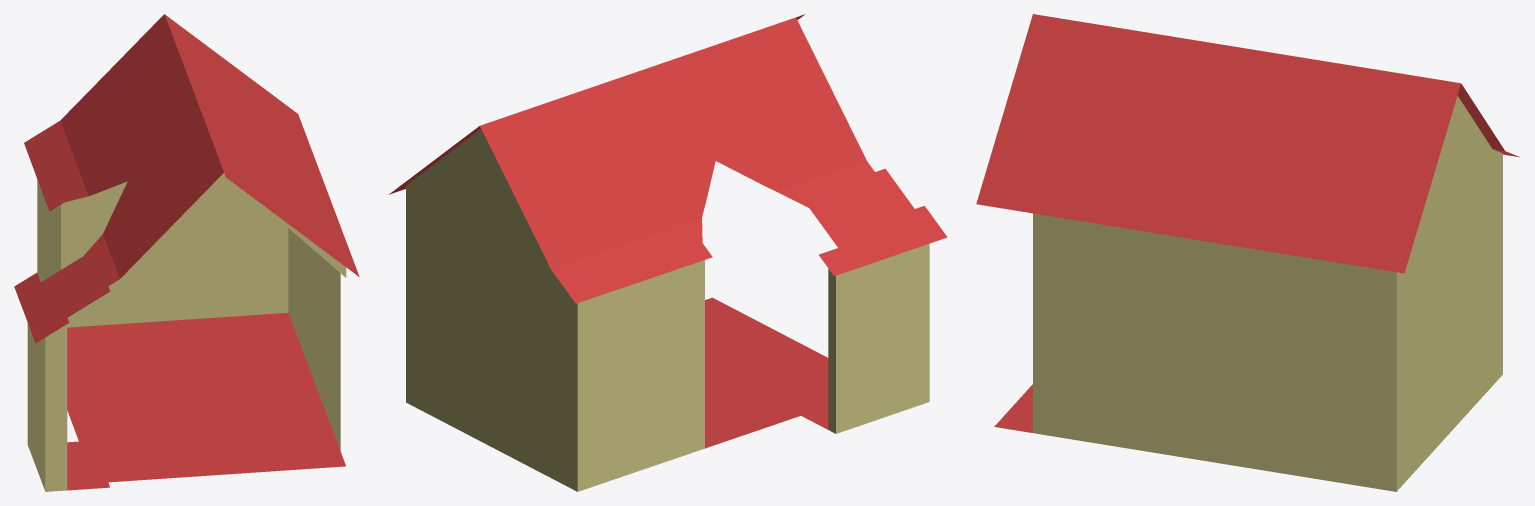
3 views of the same model, side by side, from view 1: azimuth 30°, elevation 25°; view 2: azimuth 150°, elevation 25°; view 3: azimuth 270°, elevation 25° (orthographic). The views are drawn at different scales.
Bounding box in the file's own units: 19.16 × 19.67 × 14.1.
